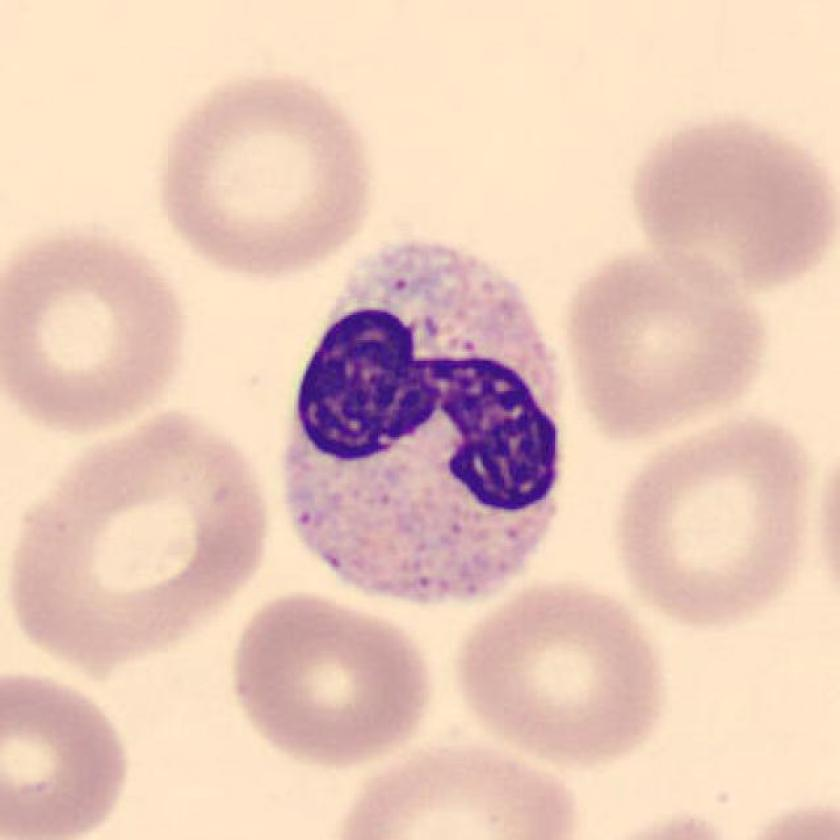neutrophil: (284, 244, 566, 599)
